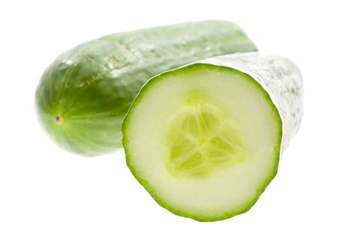cucumber: (120, 49, 307, 224)
